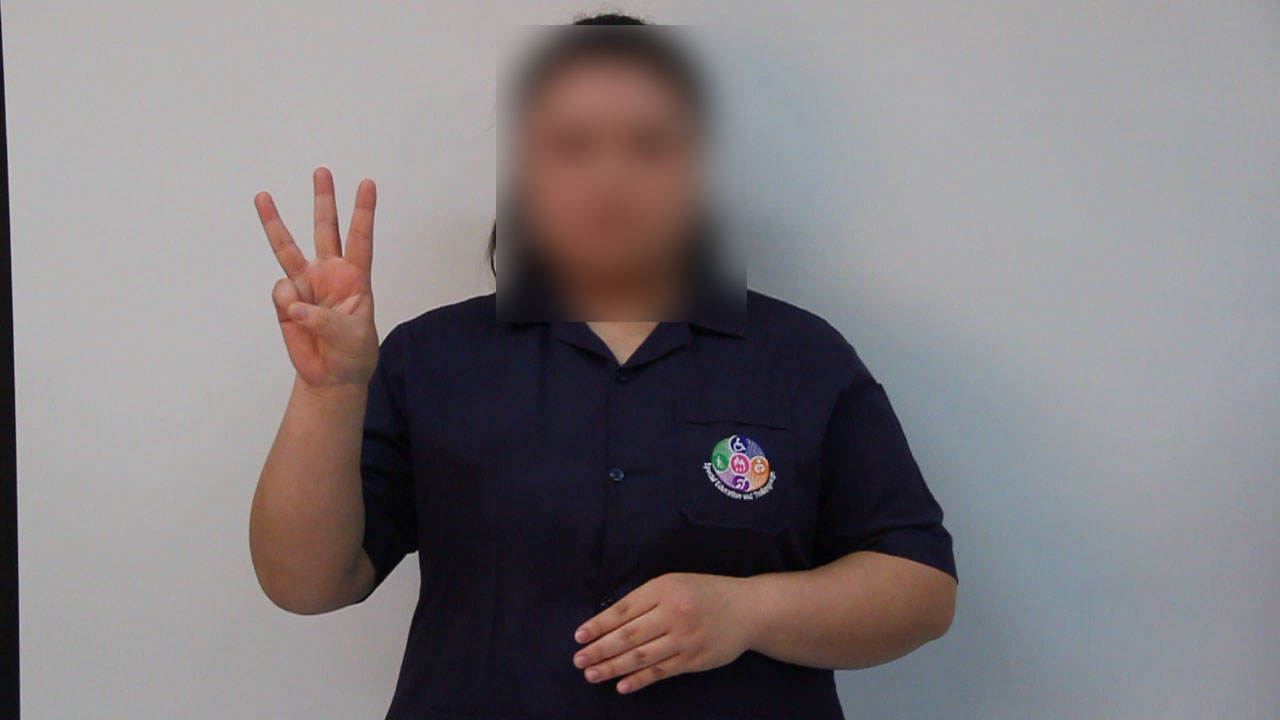wor: (243, 157, 392, 406)
